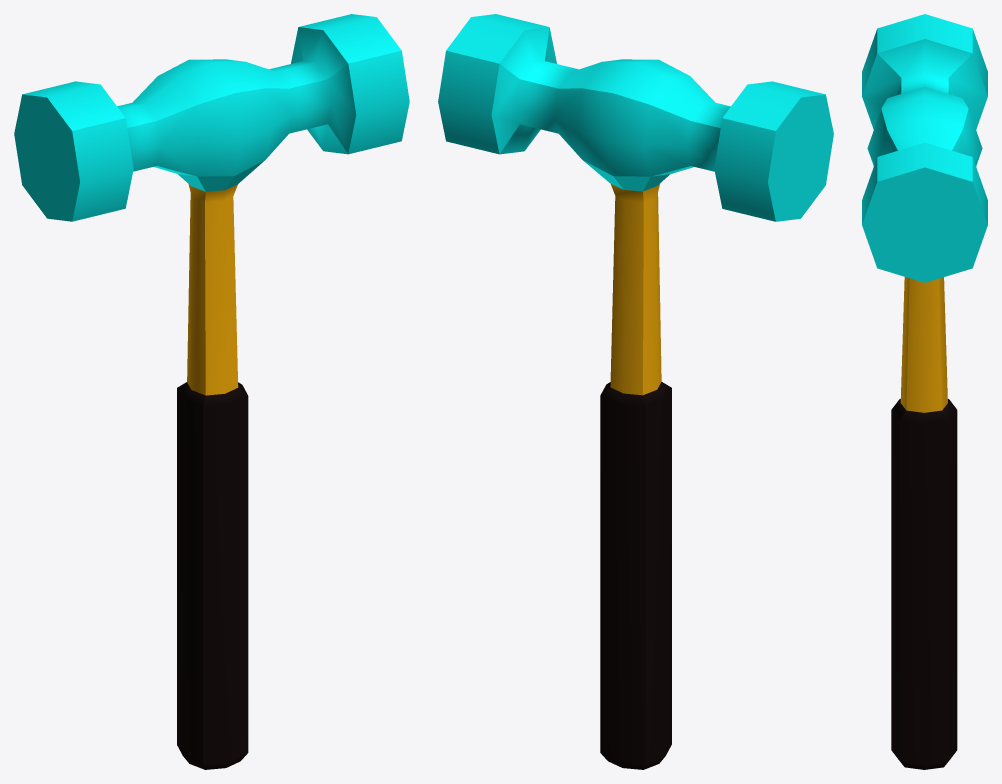
Rendered from Texture_Hammer.obj.
3 renders of one model, left to right at view 1: azimuth 30°, elevation 25°; view 2: azimuth 150°, elevation 25°; view 3: azimuth 270°, elevation 25°, orthographic. The views are drawn at different scales.
Visible parts, largest first — view 1: Hammermesh1; view 2: Hammermesh1; view 3: Hammermesh1.
Part boxes in pixels (box(x1,y1,x2,y2)): Hammermesh1: box(14, 14, 409, 769); Hammermesh1: box(438, 14, 833, 769); Hammermesh1: box(862, 14, 987, 769).
Bounding box in the file's own units: 6.03 × 12.25 × 2.09.
